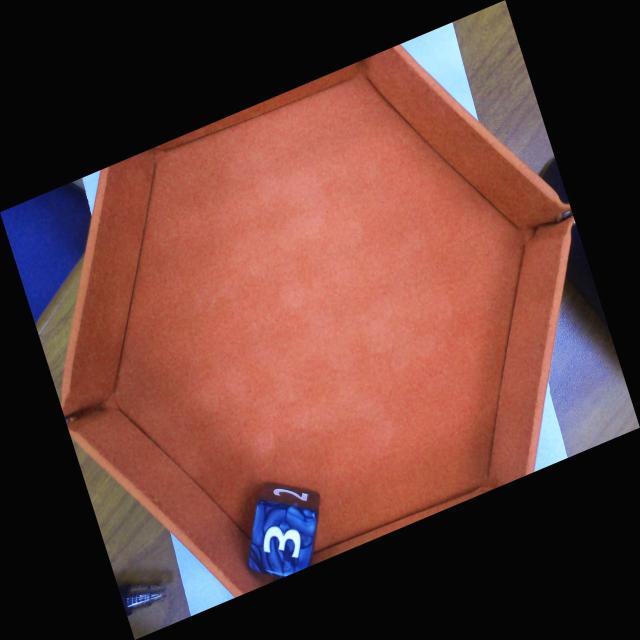dice: (245, 498, 321, 588)
